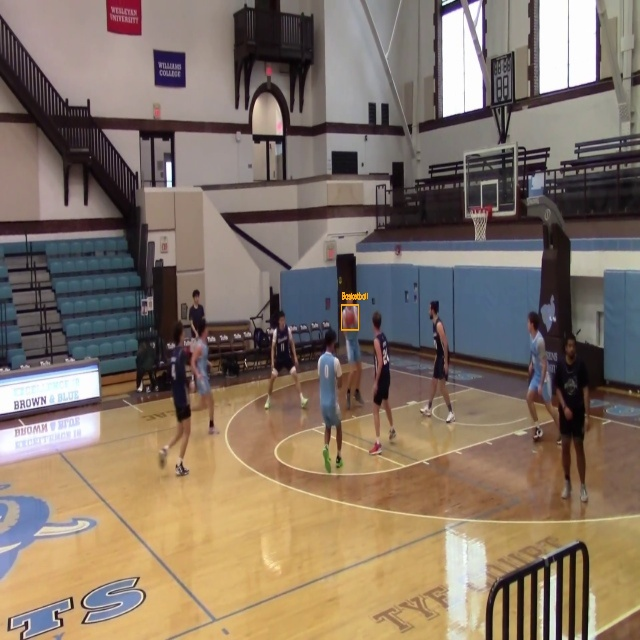Basketball: (341, 305, 359, 330)
